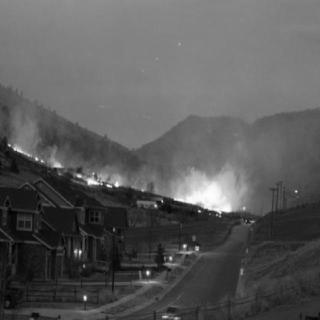Fire: (73, 161, 123, 195)
